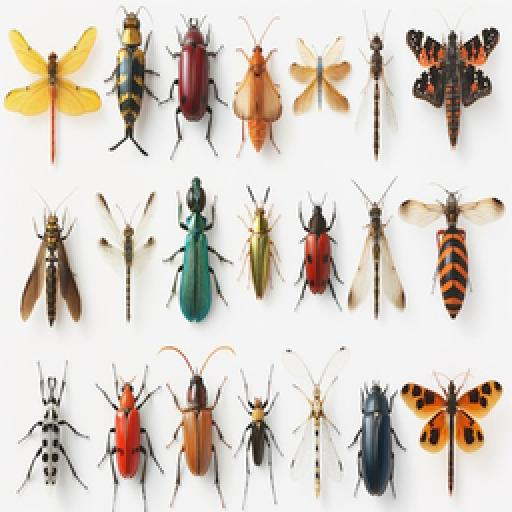insects: (398, 182, 506, 322), (398, 362, 502, 502), (4, 26, 102, 166), (158, 344, 236, 510), (404, 26, 502, 150), (284, 346, 350, 504), (162, 176, 230, 326), (18, 362, 88, 498), (164, 10, 224, 164), (102, 6, 162, 158), (344, 176, 406, 322), (226, 16, 286, 162), (98, 358, 158, 502), (288, 34, 354, 162), (18, 196, 84, 324), (98, 188, 160, 324), (230, 362, 288, 500), (350, 376, 406, 510), (288, 190, 348, 312), (358, 8, 396, 162), (234, 194, 284, 310)
